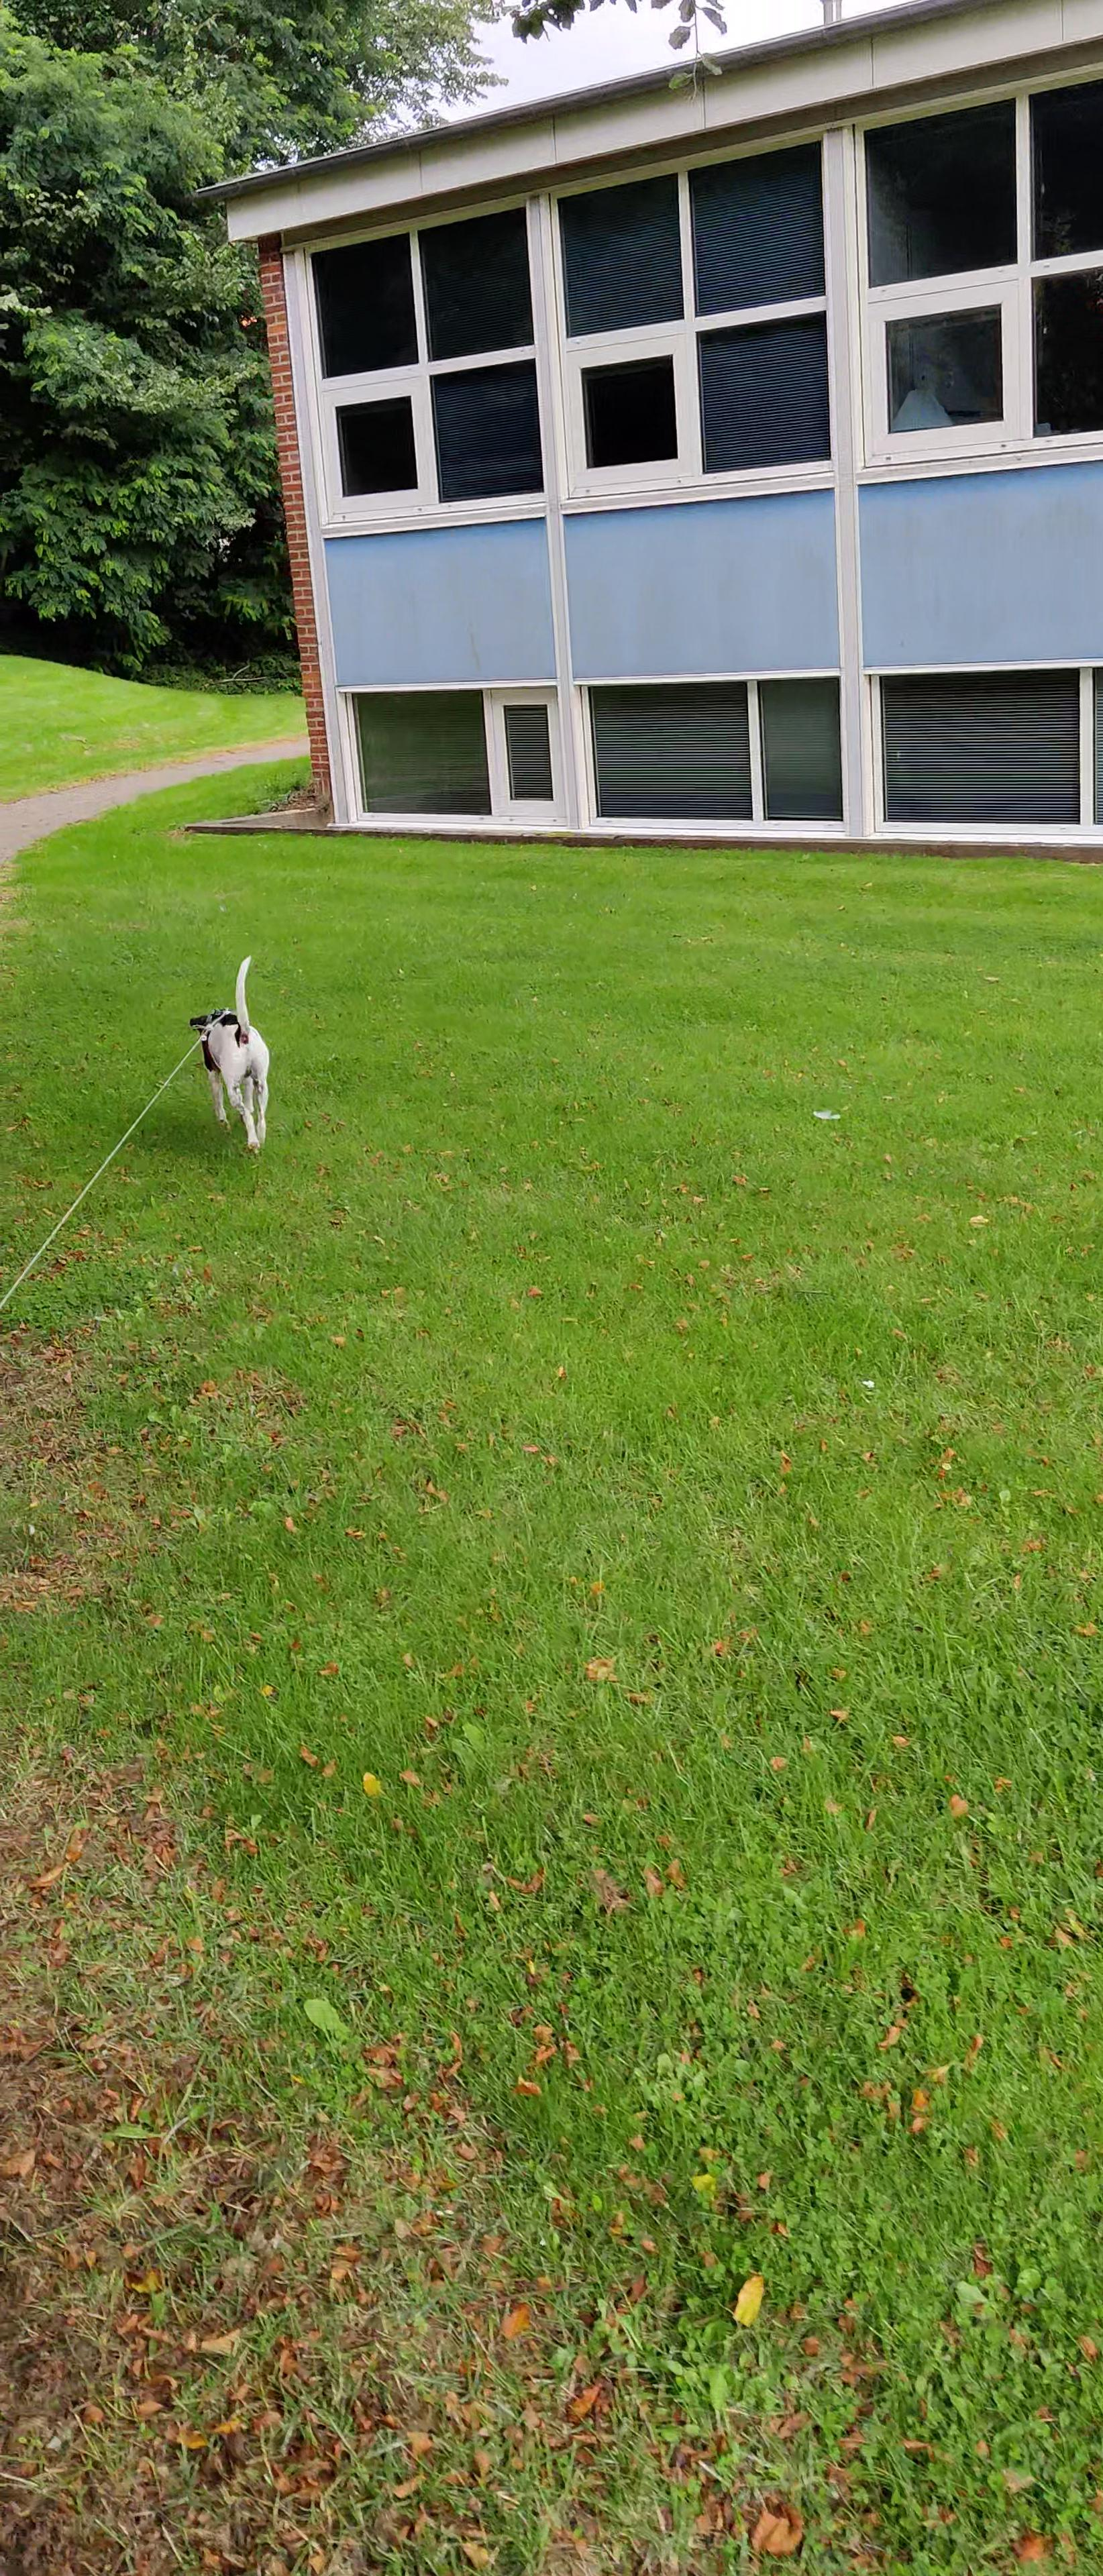Dog: (186, 950, 273, 1155)
